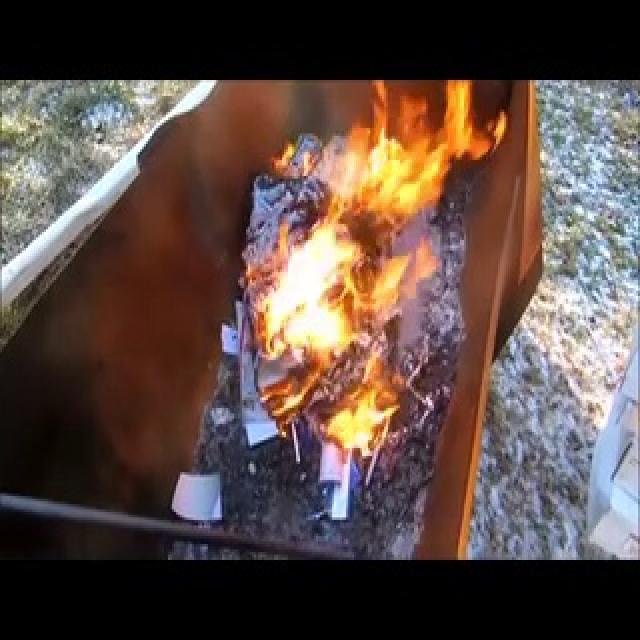Fire: (232, 80, 446, 453)
